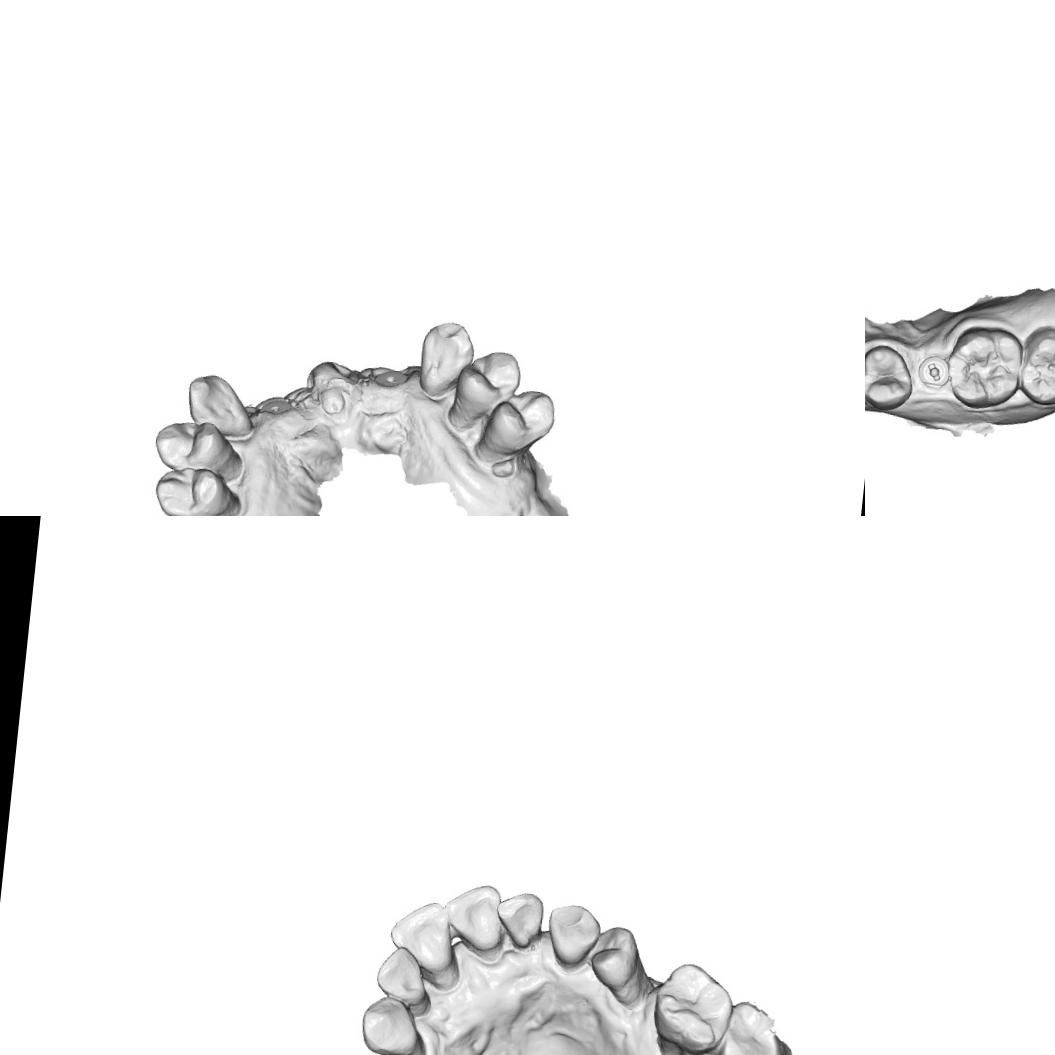canine: (180, 370, 260, 440), (414, 315, 477, 402), (356, 992, 431, 1055), (543, 901, 603, 970)
implant_minus: (915, 352, 954, 392)
incisor: (438, 879, 508, 962), (386, 897, 459, 974), (372, 943, 437, 1018), (492, 889, 546, 950)
molar: (647, 959, 737, 1055), (944, 320, 1026, 414), (711, 997, 790, 1055), (1014, 319, 1055, 412)
premolar: (584, 923, 658, 1009), (450, 344, 526, 422), (479, 384, 559, 458), (148, 415, 238, 476), (151, 463, 237, 516), (865, 340, 917, 414)
